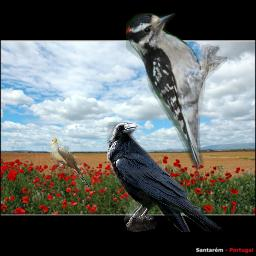Crow: (107, 122, 223, 232)
Cuckoo: (50, 137, 90, 189)
Woodpecker: (126, 13, 227, 171)
